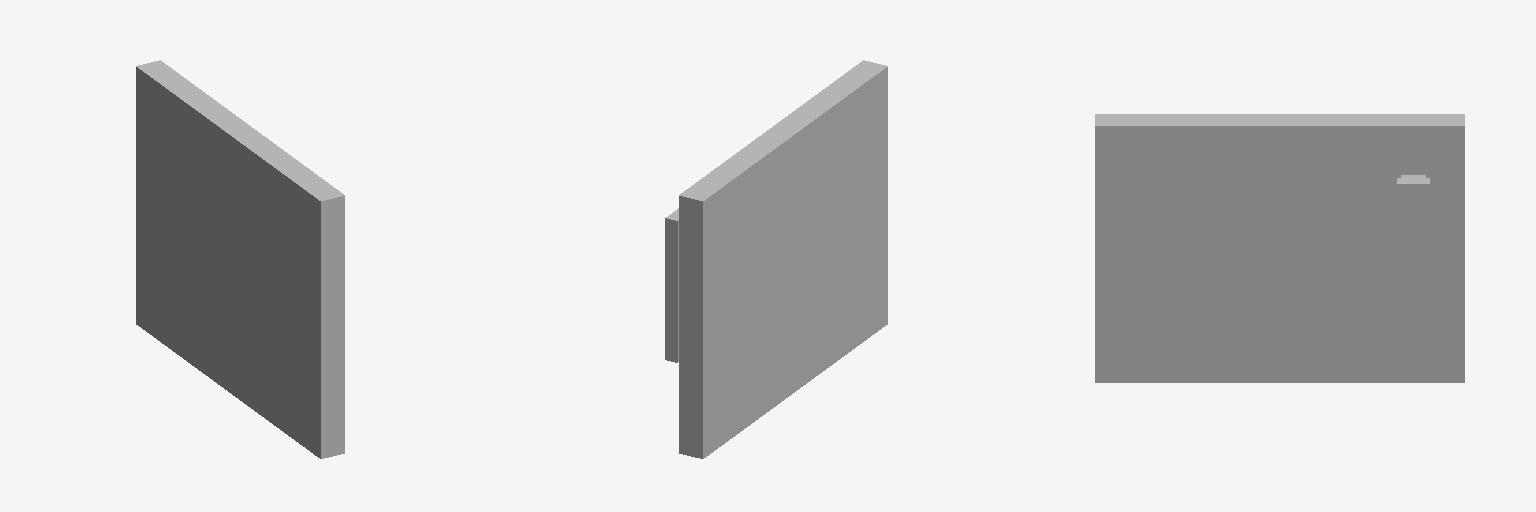
File: multidecor_wooden_desk_door.obj
3 renders of one model, left to right at view 1: azimuth 30°, elevation 25°; view 2: azimuth 150°, elevation 25°; view 3: azimuth 270°, elevation 25°, orthographic.
Visible parts, largest first — view 1: Cube.002_Cube.001; view 2: Cube.002_Cube.001; view 3: Cube.002_Cube.001.
Part boxes in pixels (left/top/right/bottom): Cube.002_Cube.001: left=136, top=60, right=344, bottom=458; Cube.002_Cube.001: left=665, top=60, right=887, bottom=458; Cube.002_Cube.001: left=1095, top=114, right=1464, bottom=382.
Bounding box in the file's own units: 0.225 × 1 × 1.3.